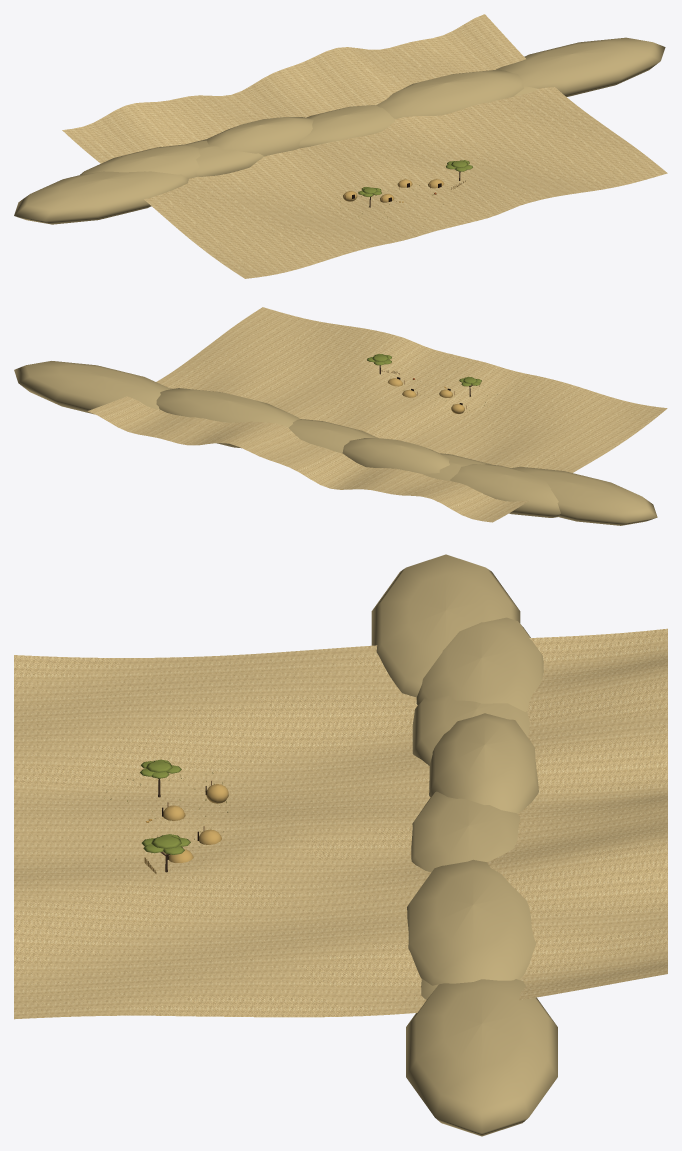
The model's file is village-peul.glb.
3 renders of one model, top to bottom at view 1: azimuth 30°, elevation 25°; view 2: azimuth 150°, elevation 25°; view 3: azimuth 270°, elevation 25°, orthographic. The views are drawn at different scales.
Parts seen in each view (by area): view 1: sol, decor; view 2: sol, decor; view 3: sol, decor.
Boxes of the visible parts, box(x1,y1,x2,y2) form: sol: box(62, 14, 667, 278); decor: box(14, 37, 665, 224); sol: box(88, 307, 667, 522); decor: box(14, 354, 657, 525); sol: box(14, 628, 667, 1019); decor: box(103, 554, 557, 1136).
Bounding box in the file's own units: 188 × 13.26 × 90.
12 materials, 1 textured.
